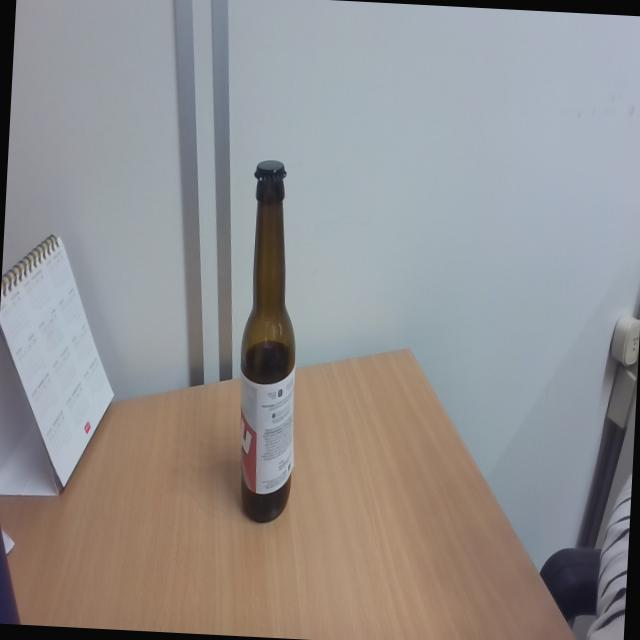Bottle: (230, 159, 308, 528)
Cap: (250, 158, 292, 186)
Label: (236, 370, 296, 496)
